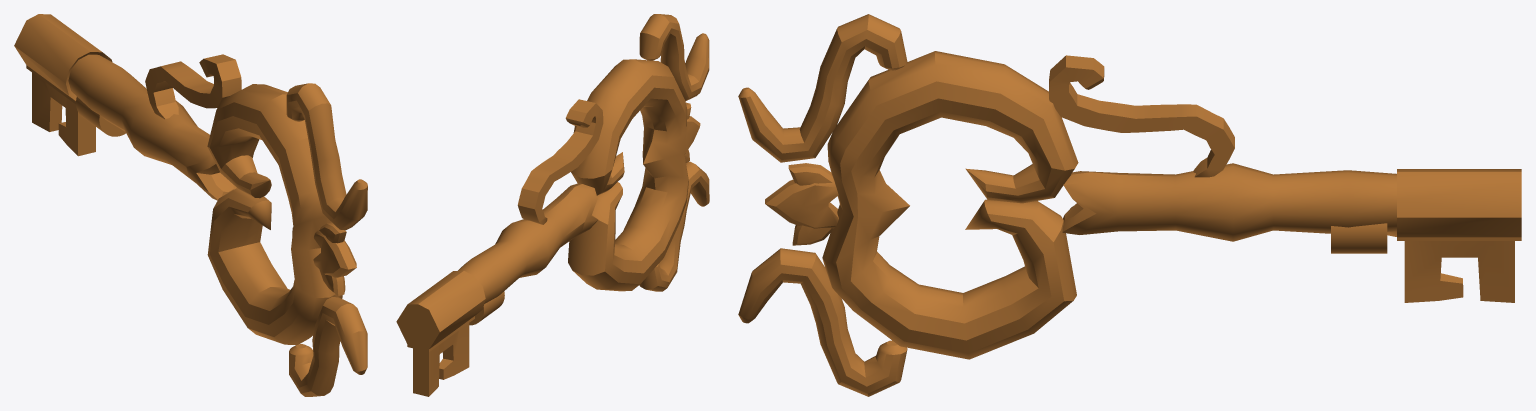
File: SM_Llave.fbx
The picture shows the model from 3 angles, left to right: view 1: azimuth 30°, elevation 25°; view 2: azimuth 150°, elevation 25°; view 3: azimuth 270°, elevation 25°; orthographic projection. The views are drawn at different scales.
Visible parts, largest first — view 1: Cylinder.014; view 2: Cylinder.014; view 3: Cylinder.014.
Boxes of the visible parts, x1,y1,x2,y2 form: Cylinder.014: (14,14,367,396); Cylinder.014: (396,14,709,396); Cylinder.014: (738,14,1521,396).
Bounding box in the file's own units: 4.21 × 22.3 × 41.84.
